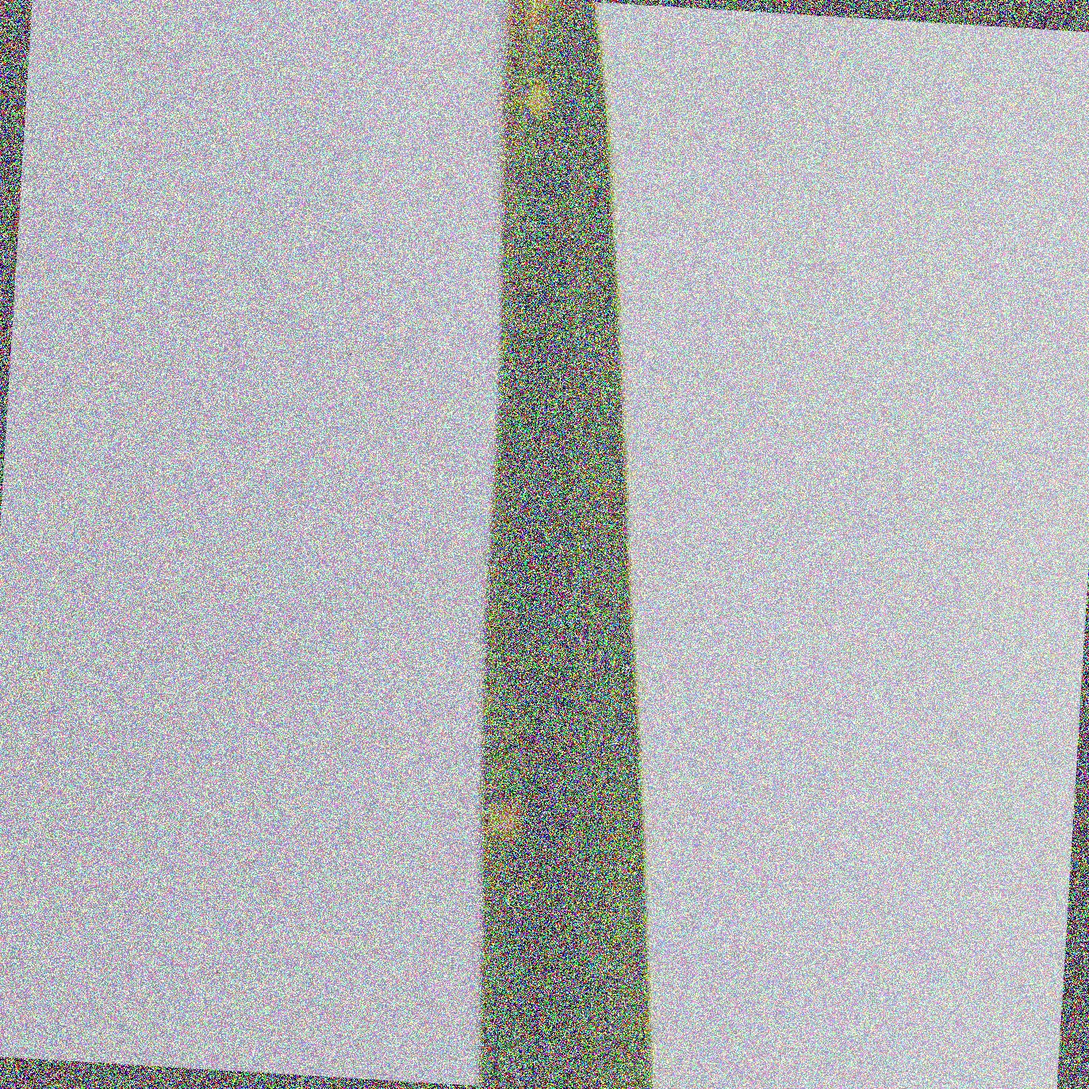Brown_Spot: (477, 767, 562, 851), (502, 68, 565, 131)
